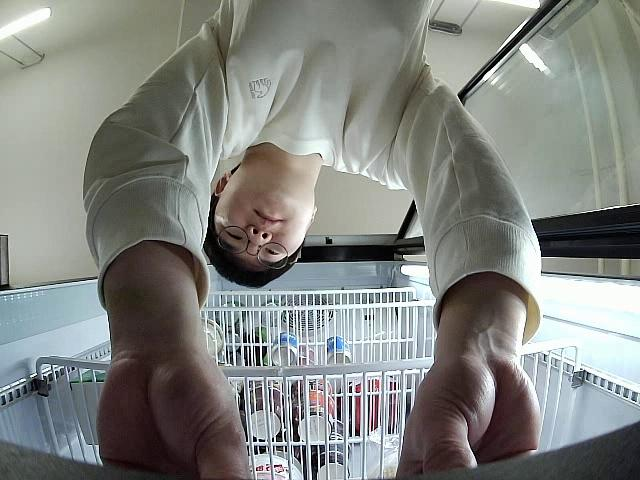00_hand: (95, 355, 255, 480), (395, 361, 541, 480)
